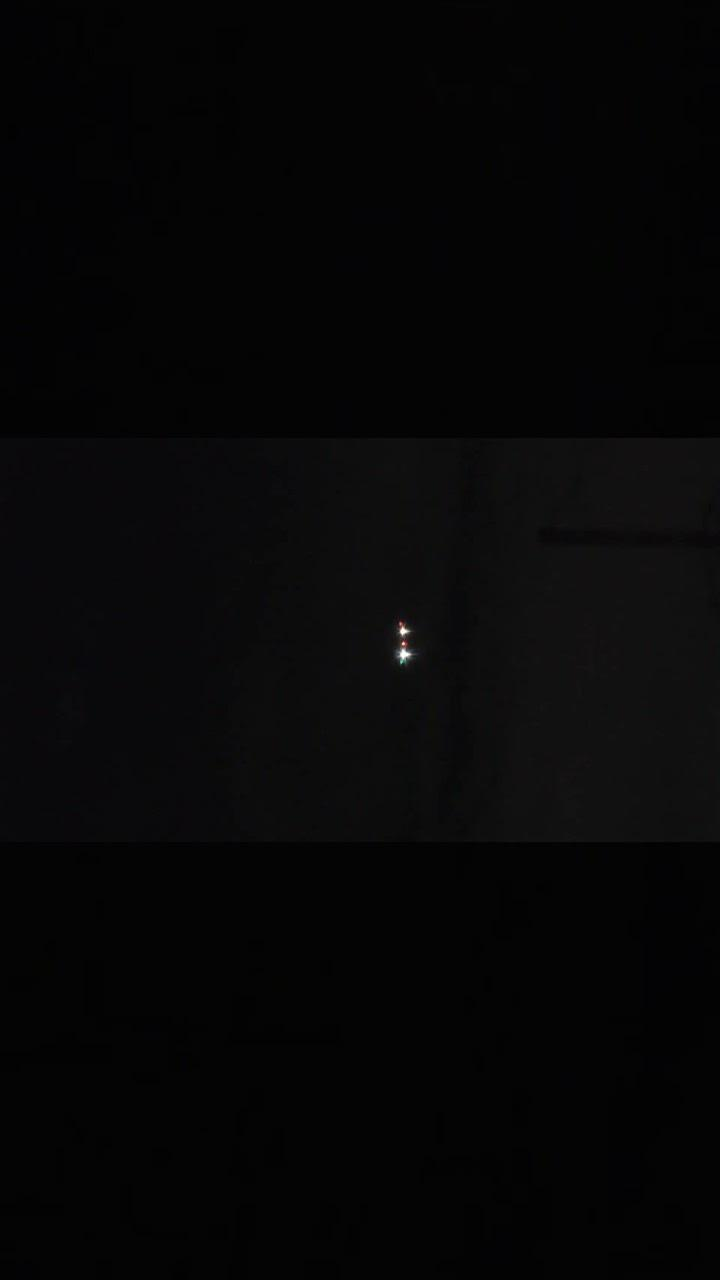Plane: (371, 584, 438, 696)
